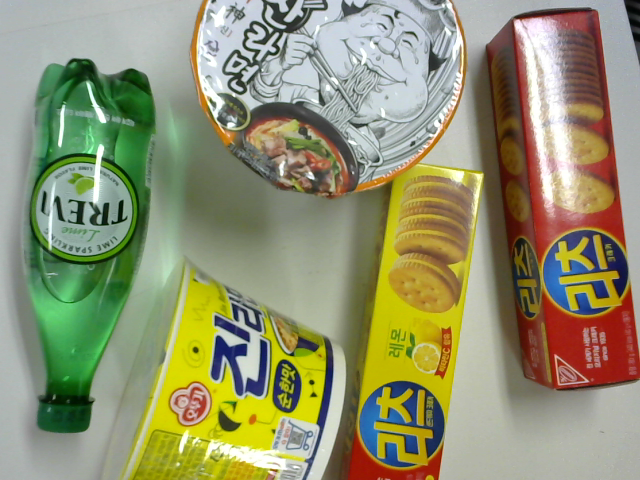Hejangchan: (186, 2, 468, 200)
Jinlamyeon_Mild_Taste_Large_Cup: (92, 260, 357, 480)
Ritz_Cracker: (498, 1, 624, 399)
Ritz_Remon_96g: (343, 147, 487, 480)
Treviraim_500ml: (31, 40, 155, 440)
